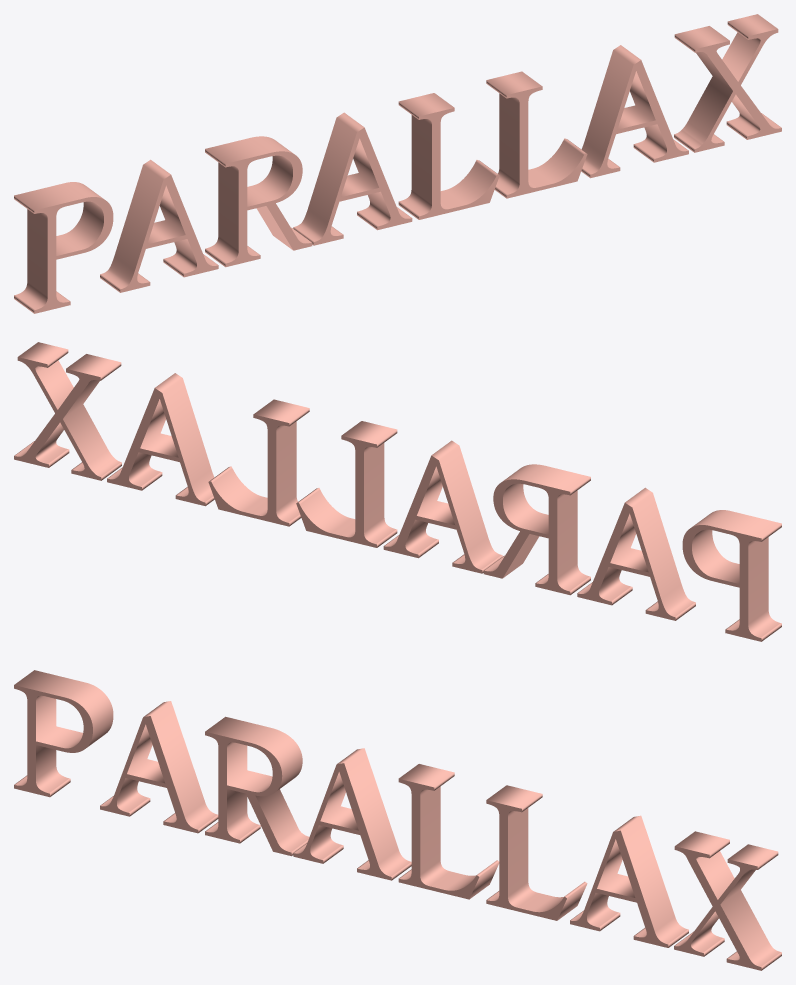
Rendered from parallax_text2.gltf.
3 views of the same model, one above another, from view 1: azimuth 30°, elevation 25°; view 2: azimuth 150°, elevation 25°; view 3: azimuth 330°, elevation 25° (orthographic).
Parts seen in each view (by area): view 1: Text; view 2: Text; view 3: Text.
Boxes of the visible parts, x1=… form: Text: x1=14, y1=14, x2=781, y2=313; Text: x1=14, y1=342, x2=781, y2=641; Text: x1=14, y1=670, x2=781, y2=970.
Bounding box in the file's own units: 5.36 × 0.726 × 0.254.
